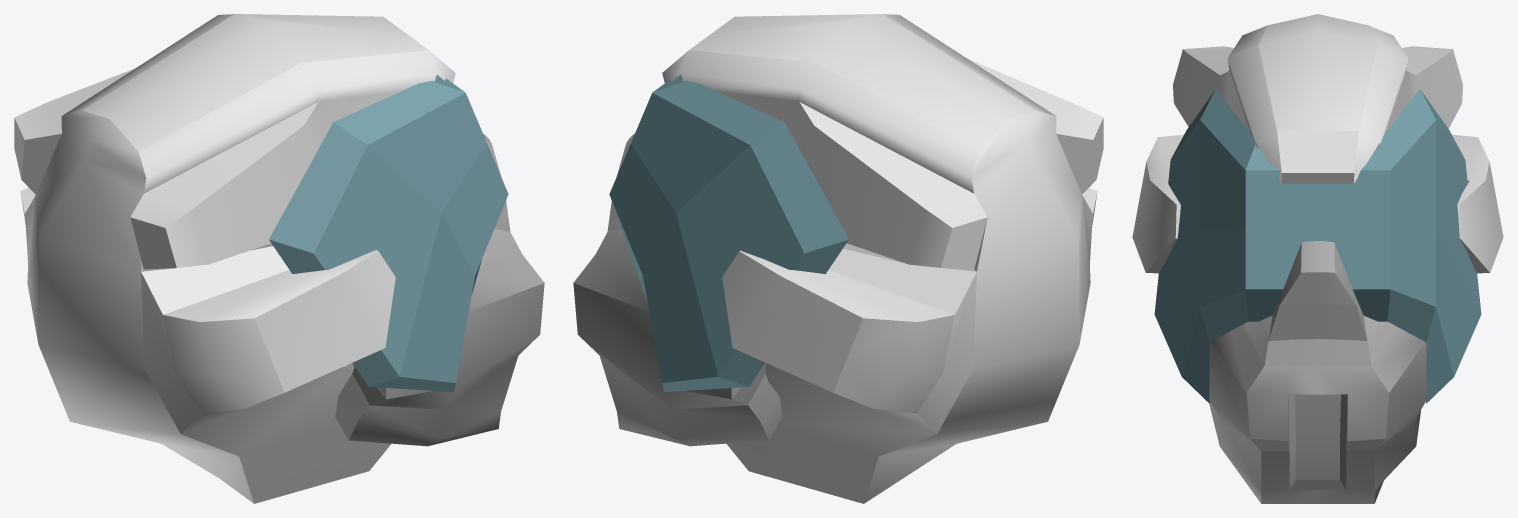
The model's file is head1.fbx.
The picture shows the model from 3 angles, left to right: view 1: azimuth 30°, elevation 25°; view 2: azimuth 150°, elevation 25°; view 3: azimuth 270°, elevation 25°; orthographic projection. The views are drawn at different scales.
Parts seen in each view (by area): view 1: pCube3, pCube1, pCube2; view 2: pCube3, pCube1, pCube2; view 3: pCube1, pCube2, pCube3.
Part boxes in pixels (<box>): pCube3: <box>14,14,455,503</box>; pCube1: <box>269,75,508,392</box>; pCube2: <box>335,133,544,446</box>; pCube3: <box>662,14,1103,503</box>; pCube1: <box>609,75,848,392</box>; pCube2: <box>573,133,782,446</box>; pCube1: <box>1154,89,1481,403</box>; pCube2: <box>1209,241,1426,503</box>; pCube3: <box>1132,14,1503,273</box>.
Bounding box in the file's own units: 5.25 × 4.81 × 4.01.
